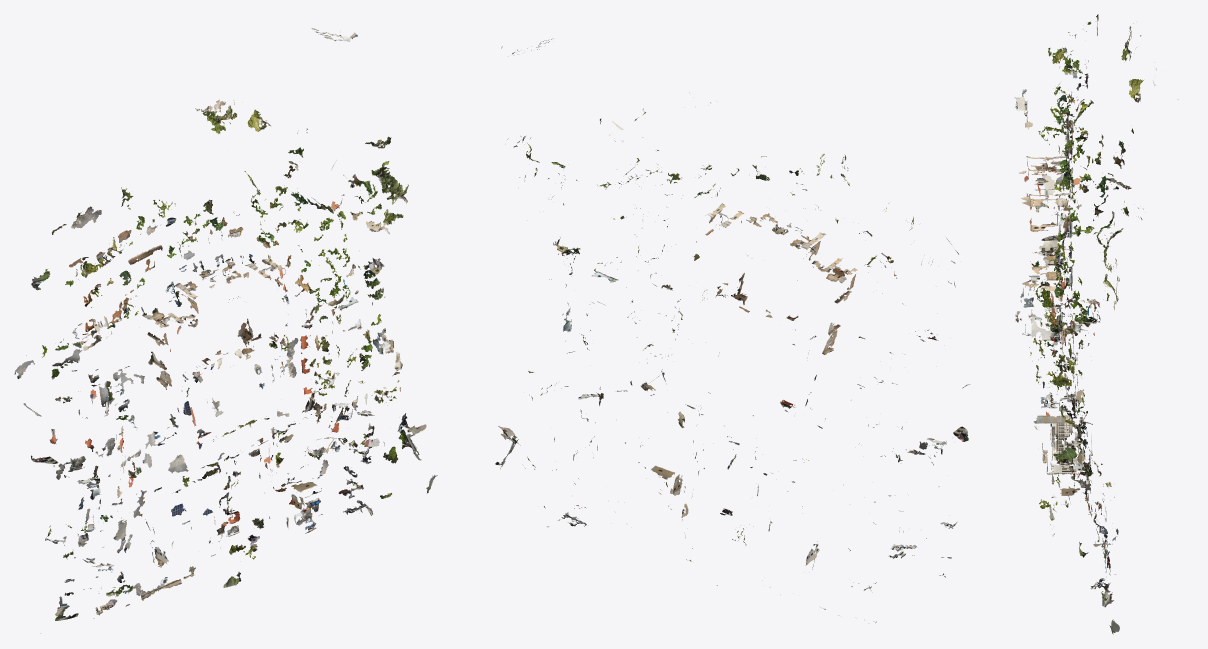
File: tile_1.glb
3 renders of one model, left to right at view 1: azimuth 30°, elevation 25°; view 2: azimuth 150°, elevation 25°; view 3: azimuth 270°, elevation 25°, orthographic. The views are drawn at different scales.
Bounding box in the file's own units: 216 × 238 × 66.36.
Materials: 6 (6 with a texture image).
